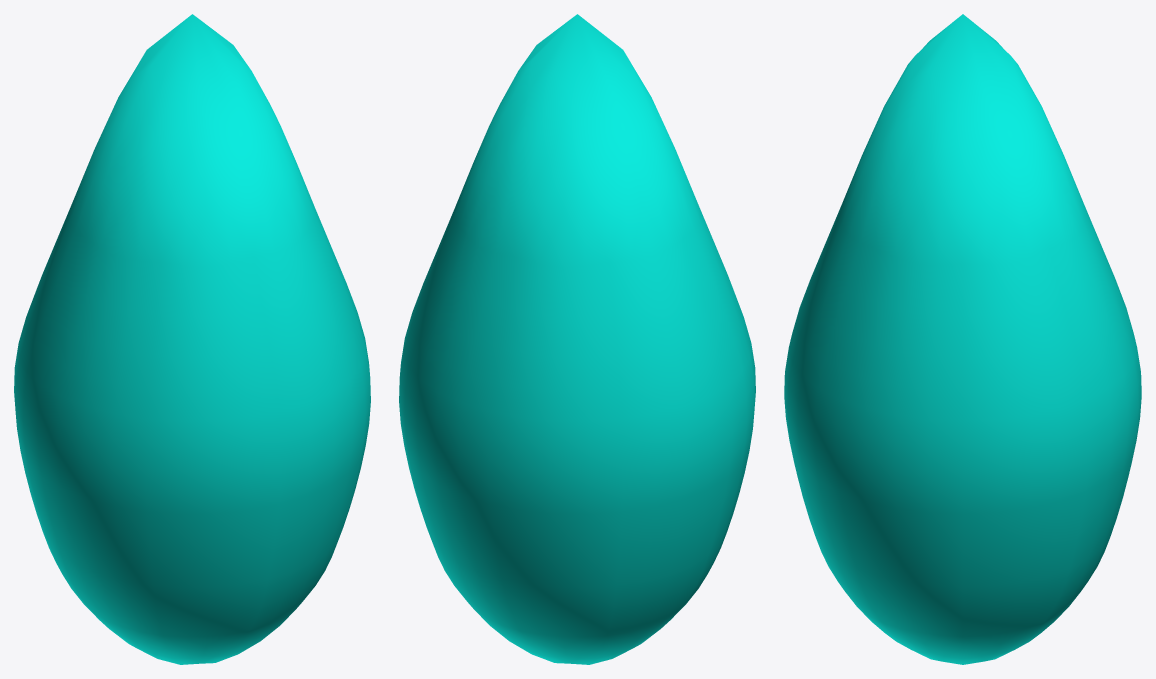
The model's file is projetp gota.fbx.
3 renders of one model, left to right at view 1: azimuth 30°, elevation 25°; view 2: azimuth 150°, elevation 25°; view 3: azimuth 270°, elevation 25°, orthographic.
Parts seen in each view (by area): view 1: Cilindro; view 2: Cilindro; view 3: Cilindro.
Boxes of the visible parts, <box> form: Cilindro: <box>14,14,370,664</box>; Cilindro: <box>399,14,755,664</box>; Cilindro: <box>784,14,1141,664</box>.
Bounding box in the file's own units: 202 × 403 × 202.
